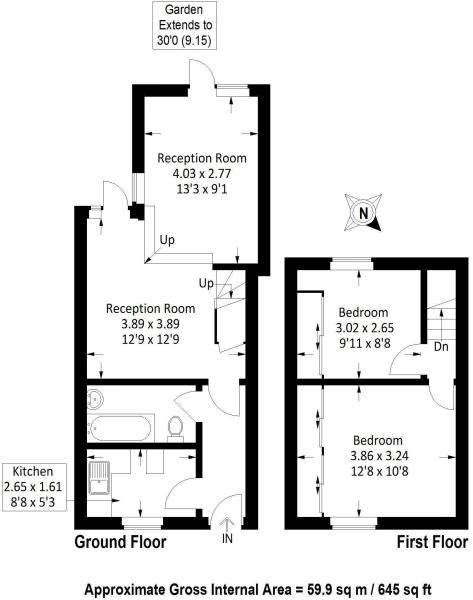GardenMeasurements: (152, 2, 215, 48)
GrossArea: (82, 580, 440, 600)
